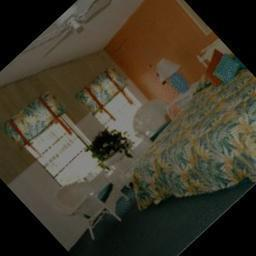Matera: (88, 121, 148, 182)
